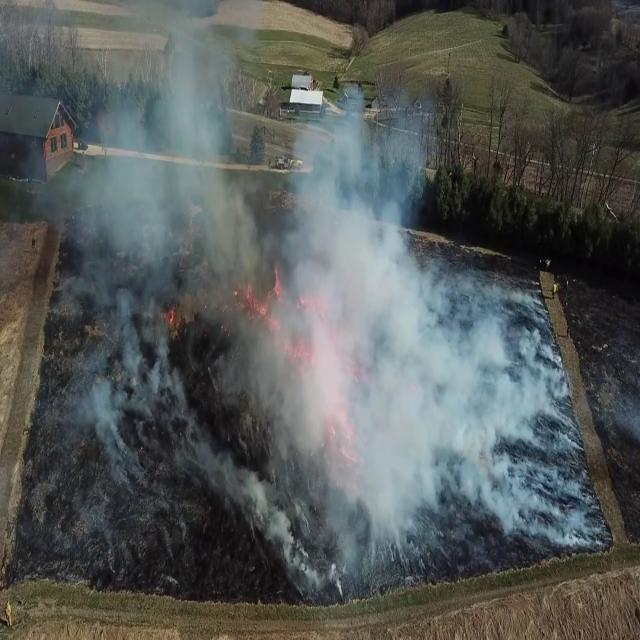Smoke: (32, 56, 528, 596)
